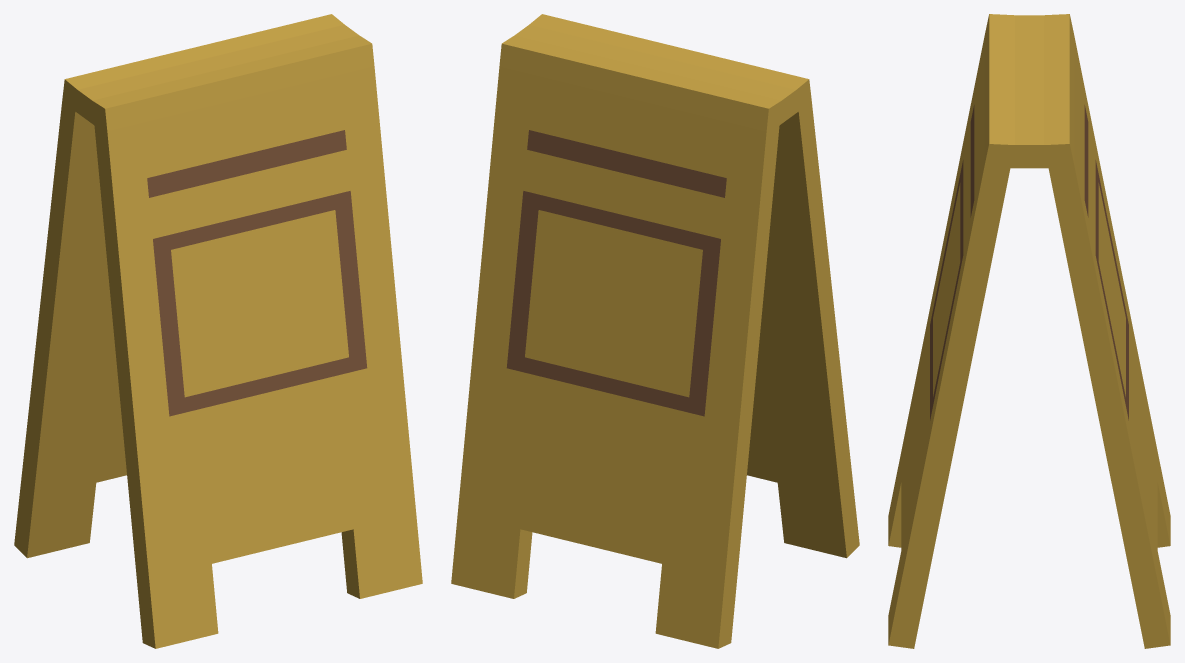
Rendered from Sign.glb.
3 views of the same model, side by side, from view 1: azimuth 30°, elevation 25°; view 2: azimuth 150°, elevation 25°; view 3: azimuth 270°, elevation 25° (orthographic).
Parts seen in each view (by area): view 1: Sign; view 2: Sign; view 3: Sign.
Boxes of the visible parts, x1,y1,x2,y2 form: Sign: (14,14,422,648); Sign: (451,14,859,648); Sign: (888,14,1170,648).
Bounding box in the file's own units: 0.5696 × 1.03 × 0.5225.
